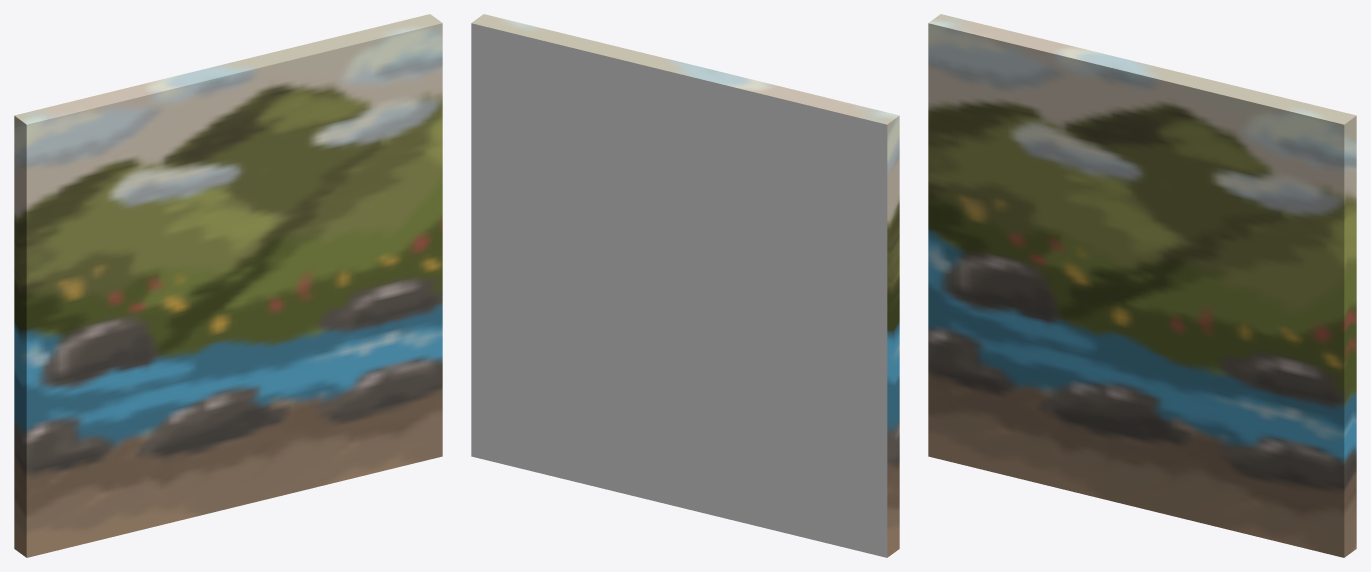
The model's file is 28_prop_canvas.FBX.
The picture shows the model from 3 angles, left to right: view 1: azimuth 30°, elevation 25°; view 2: azimuth 150°, elevation 25°; view 3: azimuth 330°, elevation 25°; orthographic projection.
Parts seen in each view (by area): view 1: prop_canvas; view 2: prop_canvas; view 3: prop_canvas.
Part boxes in pixels (x1,y1,x2,y2): prop_canvas: (14,14,442,557); prop_canvas: (471,14,899,557); prop_canvas: (928,14,1356,557).
Bounding box in the file's own units: 73.4 × 73.05 × 3.84.
